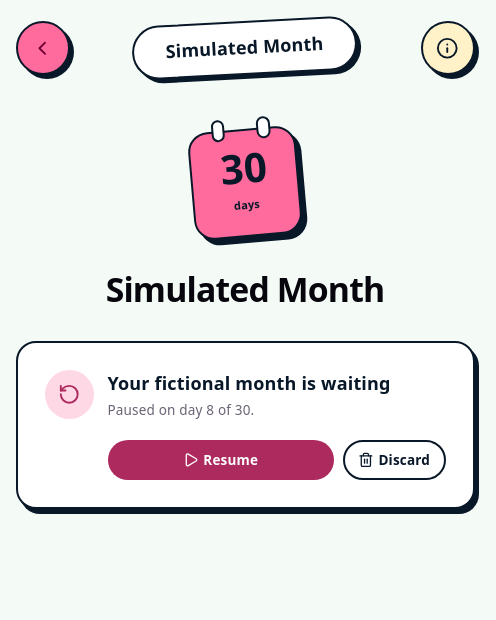
Scenario: Simulation entry and briefing › keeps discard confirmation inline instead of using a browser prompt
The width and height of the screenshot is (496, 620).
Click the button "Discard": [394, 460] box [343, 440, 446, 480]
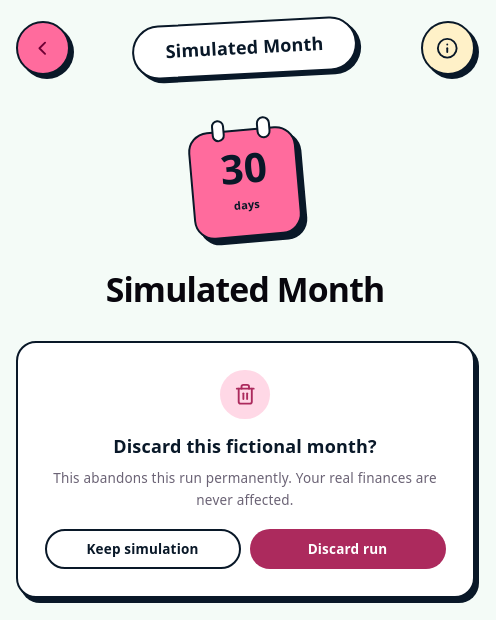
Now the text "Discard this fictional month?" is shown, box [113, 434, 377, 458]
